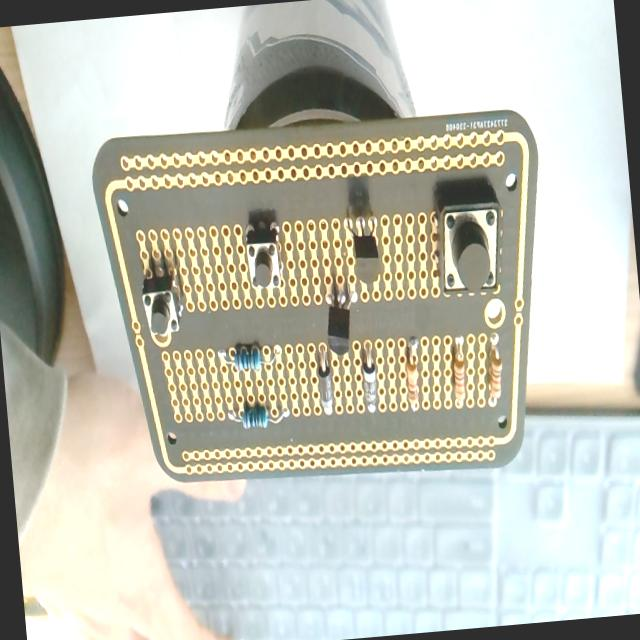diode: (314, 344, 335, 416), (360, 344, 380, 414)
resistor: (218, 341, 280, 375), (228, 401, 290, 432), (482, 332, 506, 408), (401, 336, 425, 410), (448, 338, 469, 409)
switch: (432, 197, 508, 300), (140, 261, 186, 342), (243, 222, 286, 293)
transistor: (320, 279, 361, 358), (347, 212, 382, 286)
